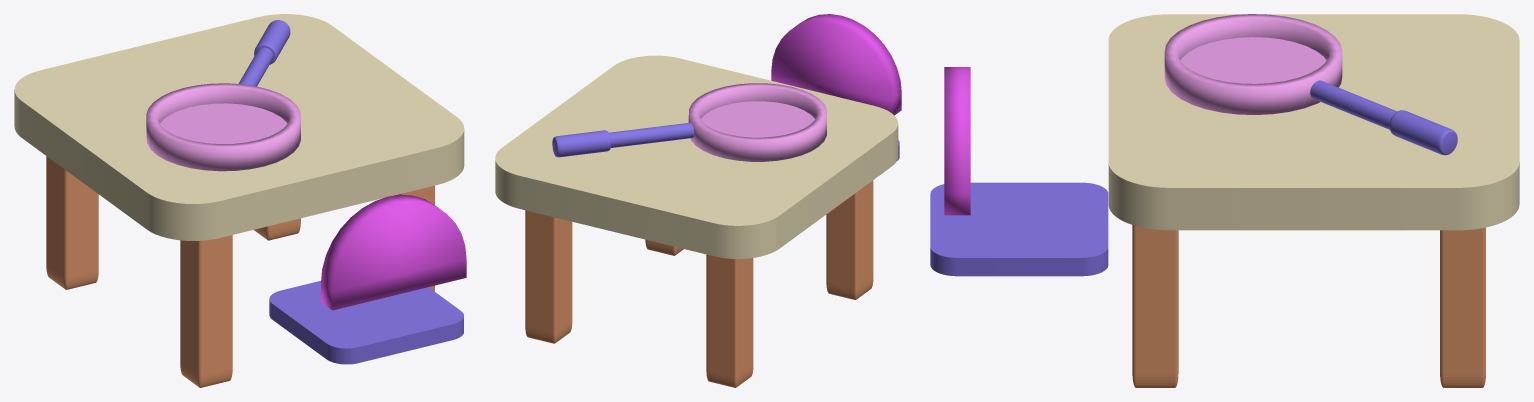
File: table.glb
3 renders of one model, left to right at view 1: azimuth 30°, elevation 25°; view 2: azimuth 150°, elevation 25°; view 3: azimuth 270°, elevation 25°, orthographic. The views are drawn at different scales.
Visible parts, largest first — view 1: 立方体.002, 立方体.003, 円, 円柱, 立方体, 円柱.002; view 2: 立方体.002, 立方体.003, 円柱, 円, 円柱.002; view 3: 立方体.002, 立方体, 円柱, 立方体.003, 円, 円柱.002.
Part boxes in pixels (x1,y1,x2,y2): 立方体.002: (14,14,464,240); 立方体.003: (46,156,434,387); 円: (321,194,466,310); 円柱: (146,83,300,171); 立方体: (269,281,463,364); 円柱.002: (238,20,290,86); 立方体.002: (495,55,898,258); 立方体.003: (525,180,873,387); 円柱: (688,83,826,161); 円: (771,14,901,115); 円柱.002: (552,122,694,157); 立方体.002: (1108,14,1519,230); 立方体: (930,182,1108,276); 円柱: (1164,14,1342,114); 立方体.003: (1132,225,1485,387); 円: (944,67,970,215); 円柱.002: (1310,80,1457,155).
Size of the model in its own units: 4.62 by 3.08 by 6.62.
